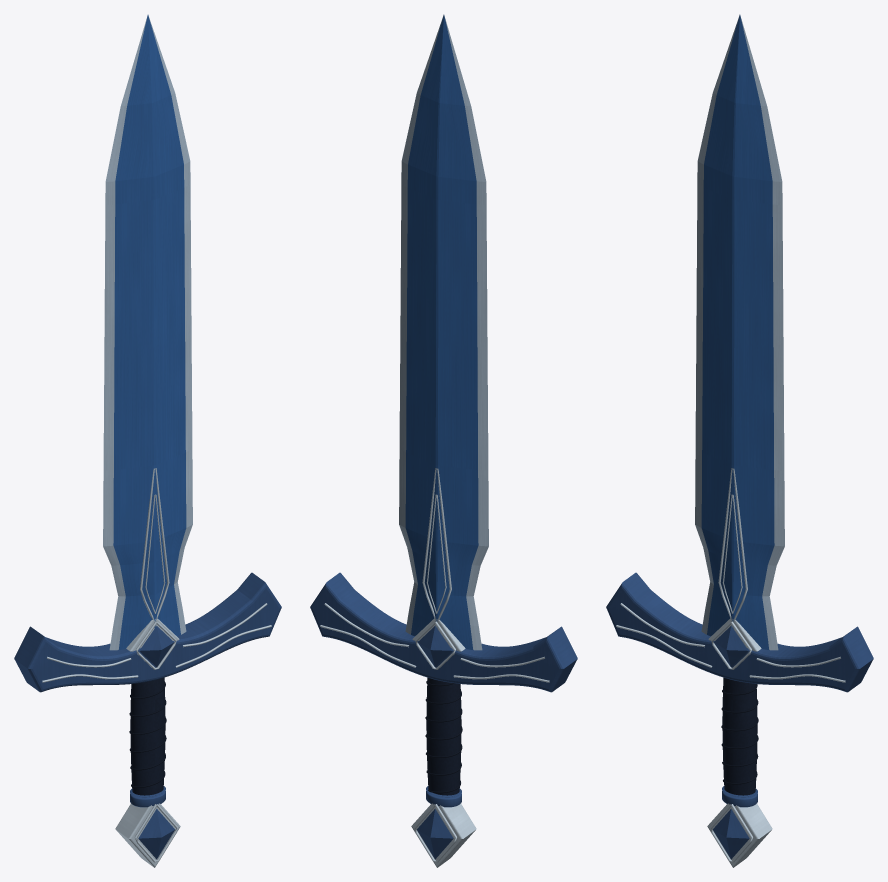
File: kaldite_sword.glb
3 renders of one model, left to right at view 1: azimuth 30°, elevation 25°; view 2: azimuth 150°, elevation 25°; view 3: azimuth 330°, elevation 25°, orthographic.
Visible parts, largest first — view 1: cobalt-blade-facets, cobalt-guard-and-pommel, cobalt-polished-honed-bevels, cobalt-raised-metal-ornament, cobalt-leather, cobalt-grip-seam; view 2: cobalt-blade-facets, cobalt-guard-and-pommel, cobalt-polished-honed-bevels, cobalt-raised-metal-ornament, cobalt-leather, cobalt-grip-seam; view 3: cobalt-blade-facets, cobalt-guard-and-pommel, cobalt-polished-honed-bevels, cobalt-raised-metal-ornament, cobalt-leather, cobalt-grip-seam.
Boxes of the visible parts, <box> form: cobalt-blade-facets: <box>113,15,186,649</box>; cobalt-guard-and-pommel: <box>14,572,281,859</box>; cobalt-polished-honed-bevels: <box>103,16,192,650</box>; cobalt-raised-metal-ornament: <box>42,468,271,867</box>; cobalt-leather: <box>130,677,165,795</box>; cobalt-grip-seam: <box>129,681,166,787</box>; cobalt-blade-facets: <box>405,15,478,649</box>; cobalt-guard-and-pommel: <box>310,572,577,859</box>; cobalt-polished-honed-bevels: <box>399,16,488,650</box>; cobalt-raised-metal-ornament: <box>320,468,549,867</box>; cobalt-leather: <box>426,677,461,795</box>; cobalt-grip-seam: <box>425,681,462,793</box>; cobalt-blade-facets: <box>701,15,774,649</box>; cobalt-guard-and-pommel: <box>606,572,873,859</box>; cobalt-polished-honed-bevels: <box>695,16,784,650</box>; cobalt-raised-metal-ornament: <box>616,468,845,867</box>; cobalt-leather: <box>722,677,757,795</box>; cobalt-grip-seam: <box>721,684,758,784</box>.
Size of the model in its own units: 0.4013 by 1.28 by 0.074.
7 materials, 7 textured.
